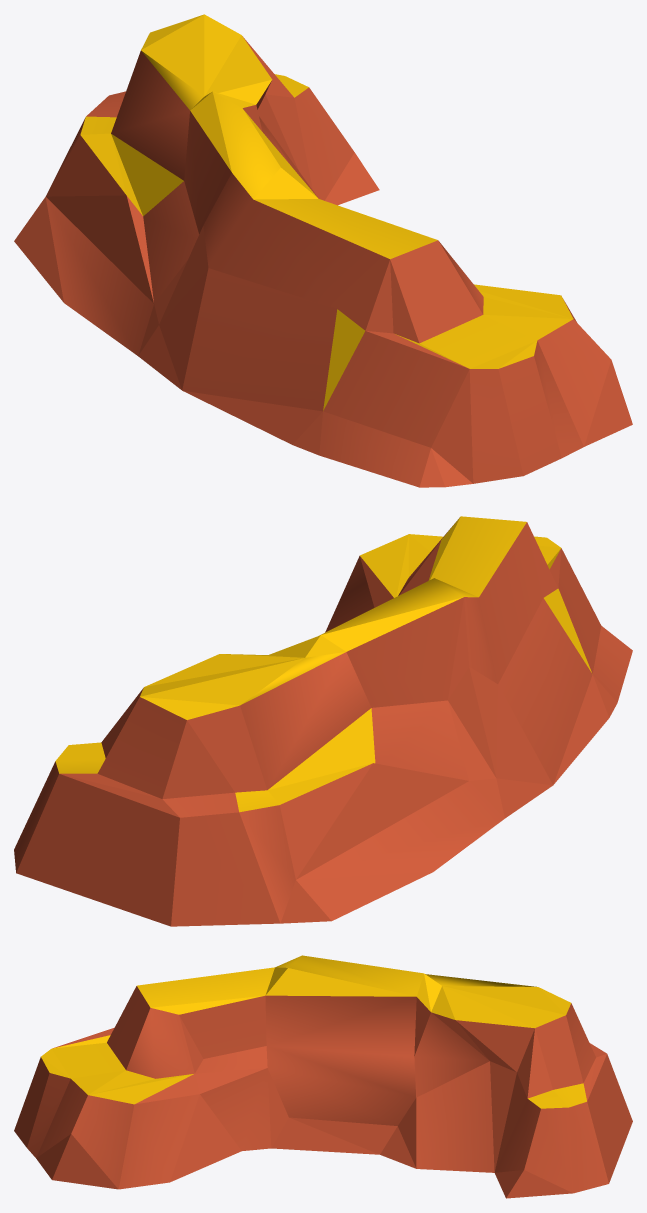
The model's file is Mountain.fbx.
3 renders of one model, top to bottom at view 1: azimuth 30°, elevation 25°; view 2: azimuth 150°, elevation 25°; view 3: azimuth 270°, elevation 25°, orthographic. The views are drawn at different scales.
Parts seen in each view (by area): view 1: Mountain; view 2: Mountain; view 3: Mountain.
Boxes of the visible parts, x1,y1,x2,y2 form: Mountain: (14,14,632,487); Mountain: (14,516,632,926); Mountain: (14,955,632,1198).
Size of the model in its own units: 11.14 by 22.59 by 5.8.
